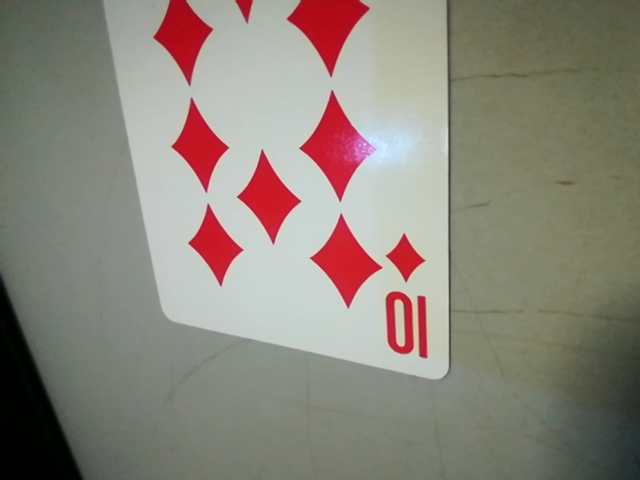fk 10: (378, 229, 442, 375)
